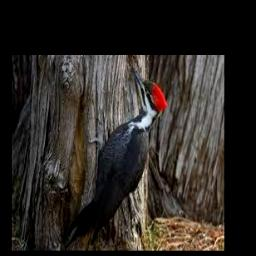Woodpecker: (65, 64, 169, 248)
